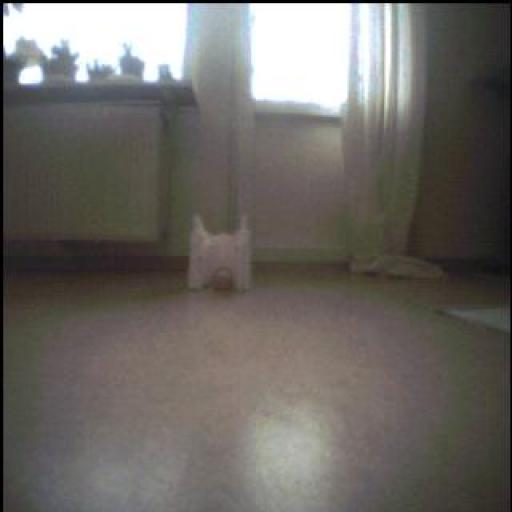Basket: (212, 268, 234, 294)
